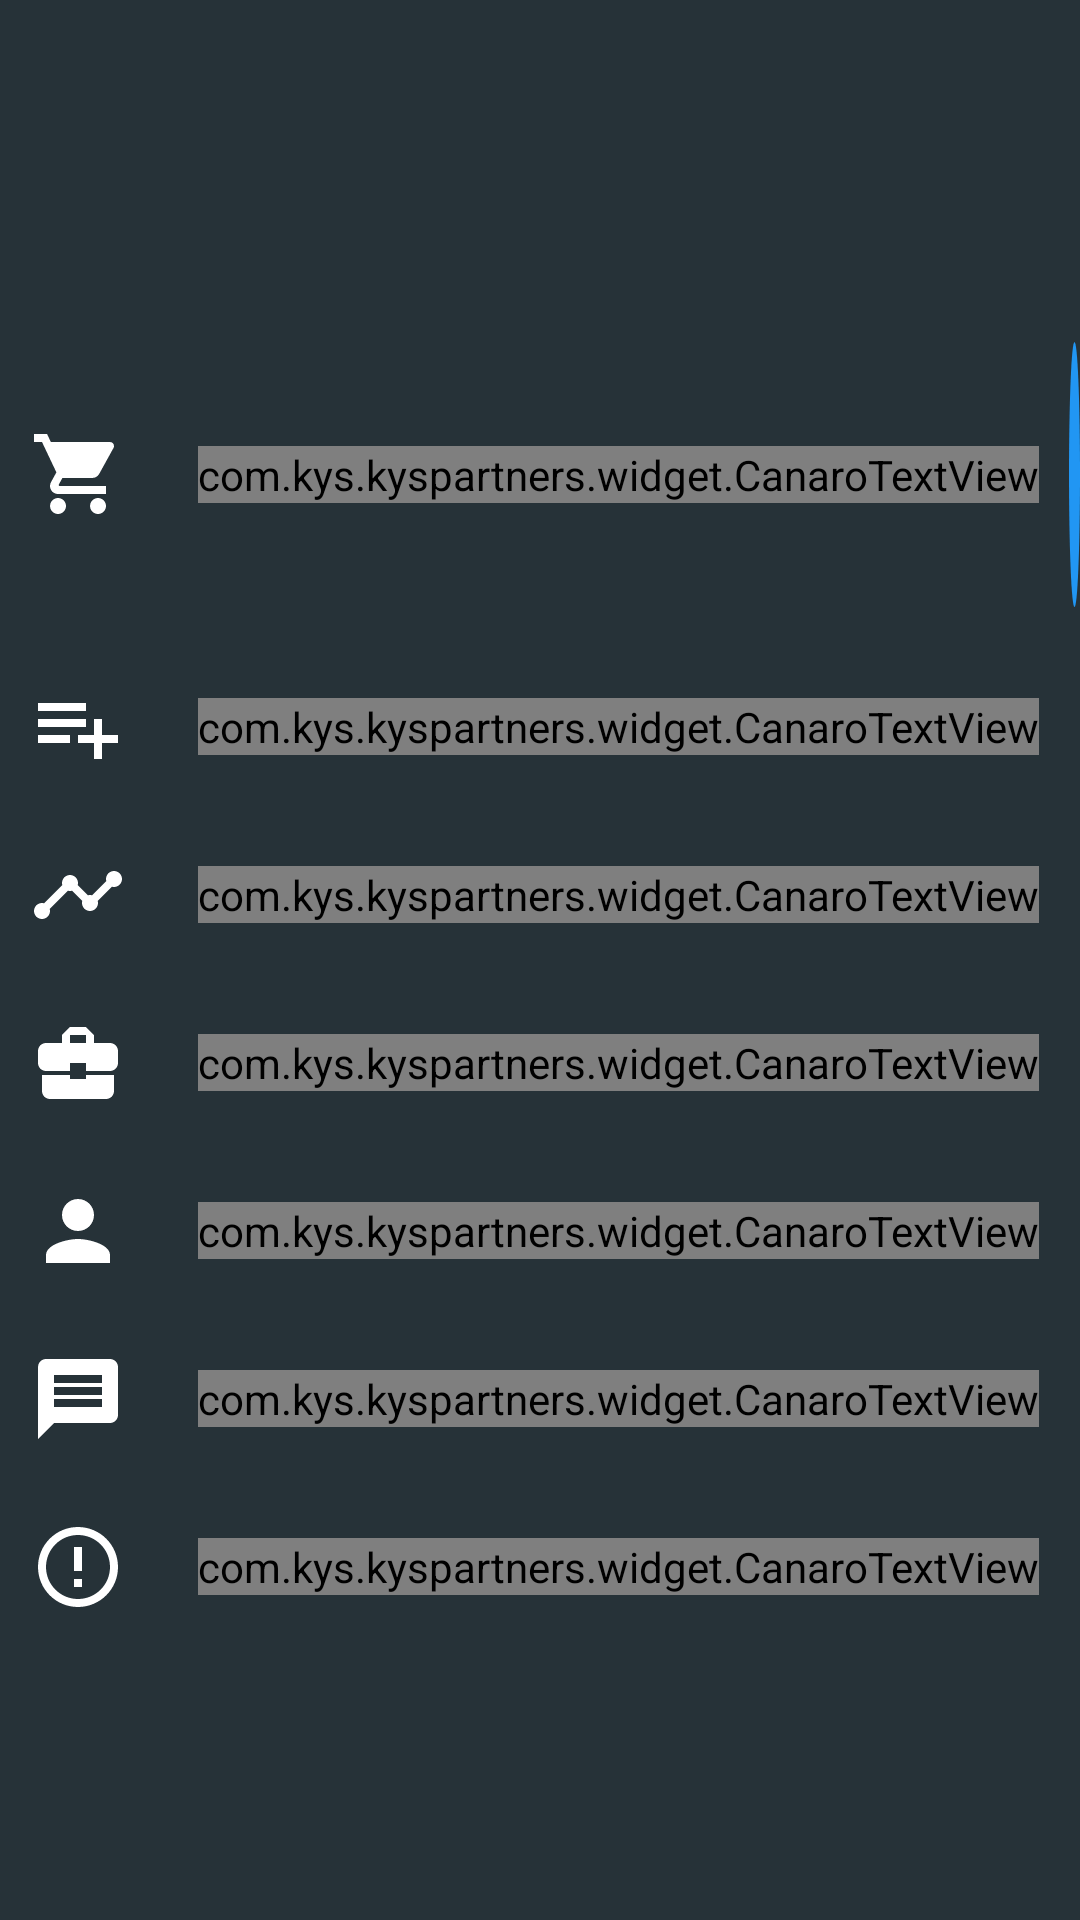

Named icons in this screenshot (1080×1920) and their centers, [x,y]:
business center: [78,1063]
error: [78,1567]
message: [78,1399]
person: [78,1231]
playlist add: [78,731]
shopping cart: [74,474]
timeline: [78,895]
